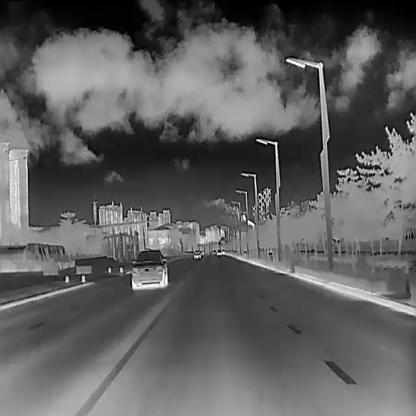car: (130, 247, 167, 288), (193, 248, 201, 258), (216, 248, 221, 255)
truck: (0, 242, 49, 270)
